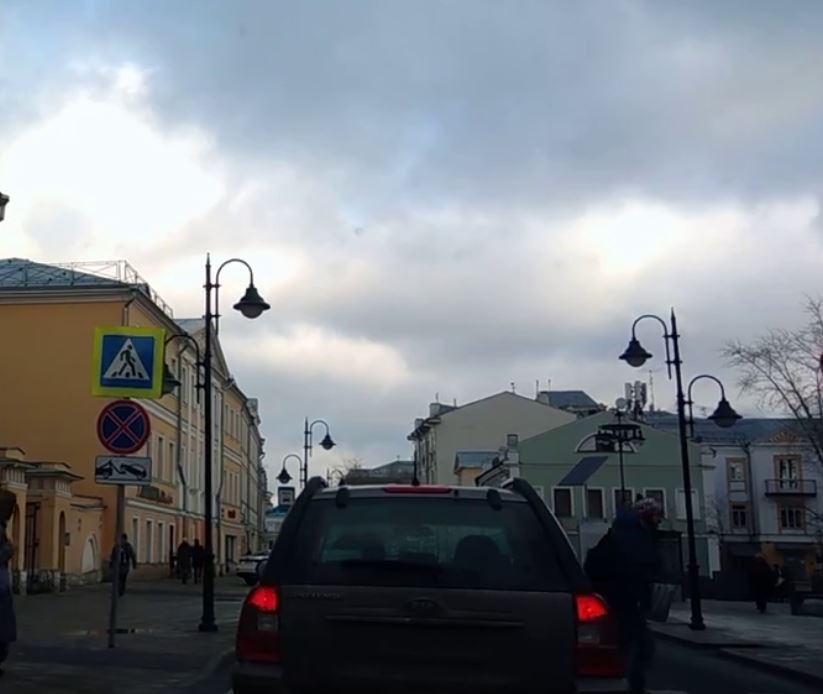Yaya Gecidi: (101, 335, 150, 388)
